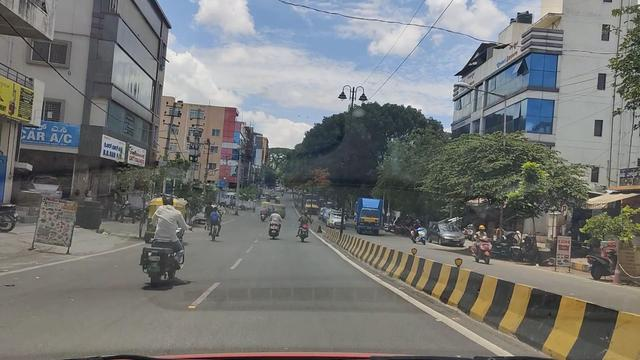LMV: (142, 183, 196, 287)
